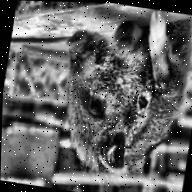boar: (44, 1, 192, 192)
